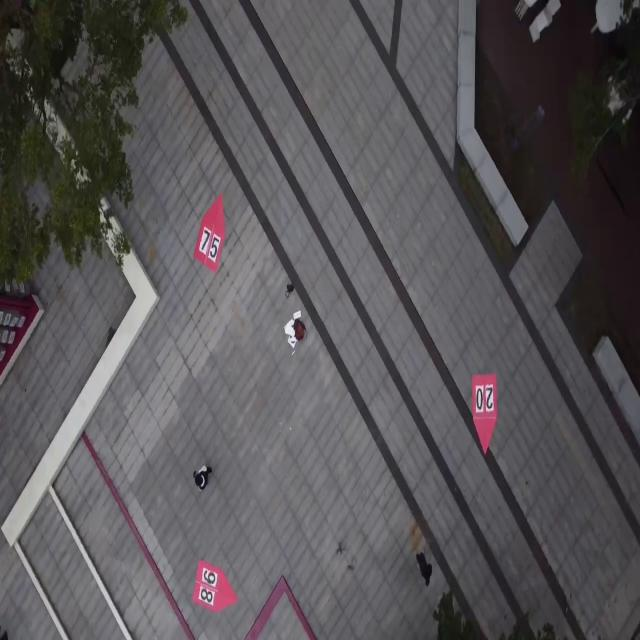-sign-: (466, 362, 500, 465), (193, 192, 225, 273), (192, 558, 237, 612)
